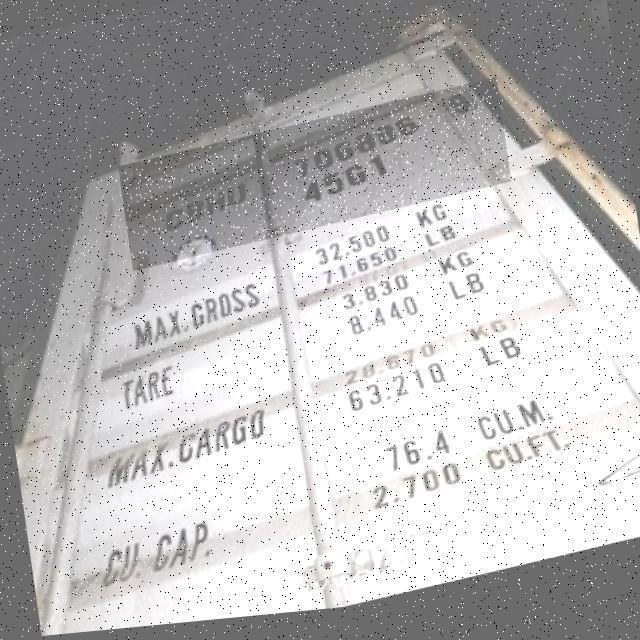container_number_h: (119, 86, 512, 275)
